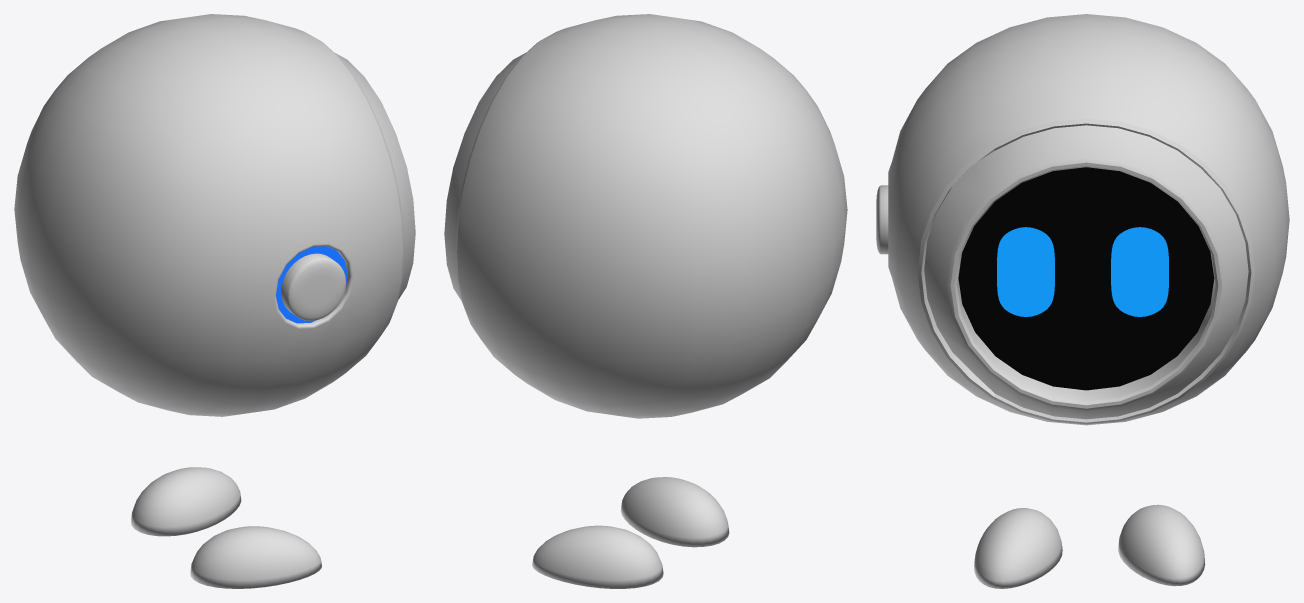
The model's file is chatbot.glb.
3 renders of one model, left to right at view 1: azimuth 30°, elevation 25°; view 2: azimuth 150°, elevation 25°; view 3: azimuth 270°, elevation 25°, orthographic. The views are drawn at different scales.
Visible parts, largest first — view 1: Cube, Sphere, Sphere.001, Cylinder; view 2: Cube, Sphere.001, Sphere; view 3: Cube, Plane, Sphere, Sphere.001, Cylinder.
Part boxes in pixels (<box>): Cube: <box>14,14,415,416</box>; Sphere: <box>190,526,321,588</box>; Sphere.001: <box>131,467,241,536</box>; Cylinder: <box>276,246,347,323</box>; Cube: <box>444,14,847,418</box>; Sphere.001: <box>532,525,663,588</box>; Sphere: <box>620,477,729,547</box>; Cube: <box>888,14,1289,425</box>; Plane: <box>997,227,1168,316</box>; Sphere: <box>974,508,1062,588</box>; Sphere.001: <box>1118,504,1205,586</box>; Cylinder: <box>876,185,888,254</box>.
Size of the model in its own units: 1.48 by 2.38 by 1.71.
